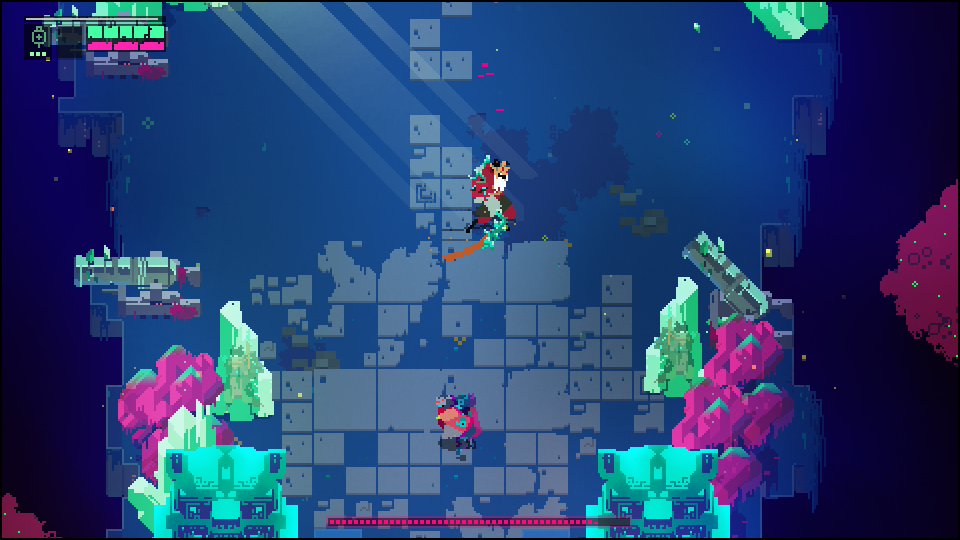hanged_man: (451, 152, 517, 260)
player: (432, 393, 474, 451)
